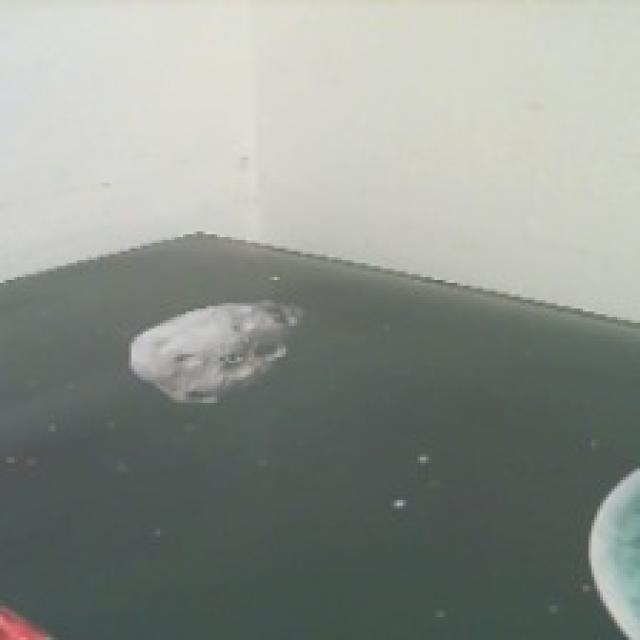Asteroid: (129, 297, 307, 407)
Earth: (587, 460, 640, 640)
